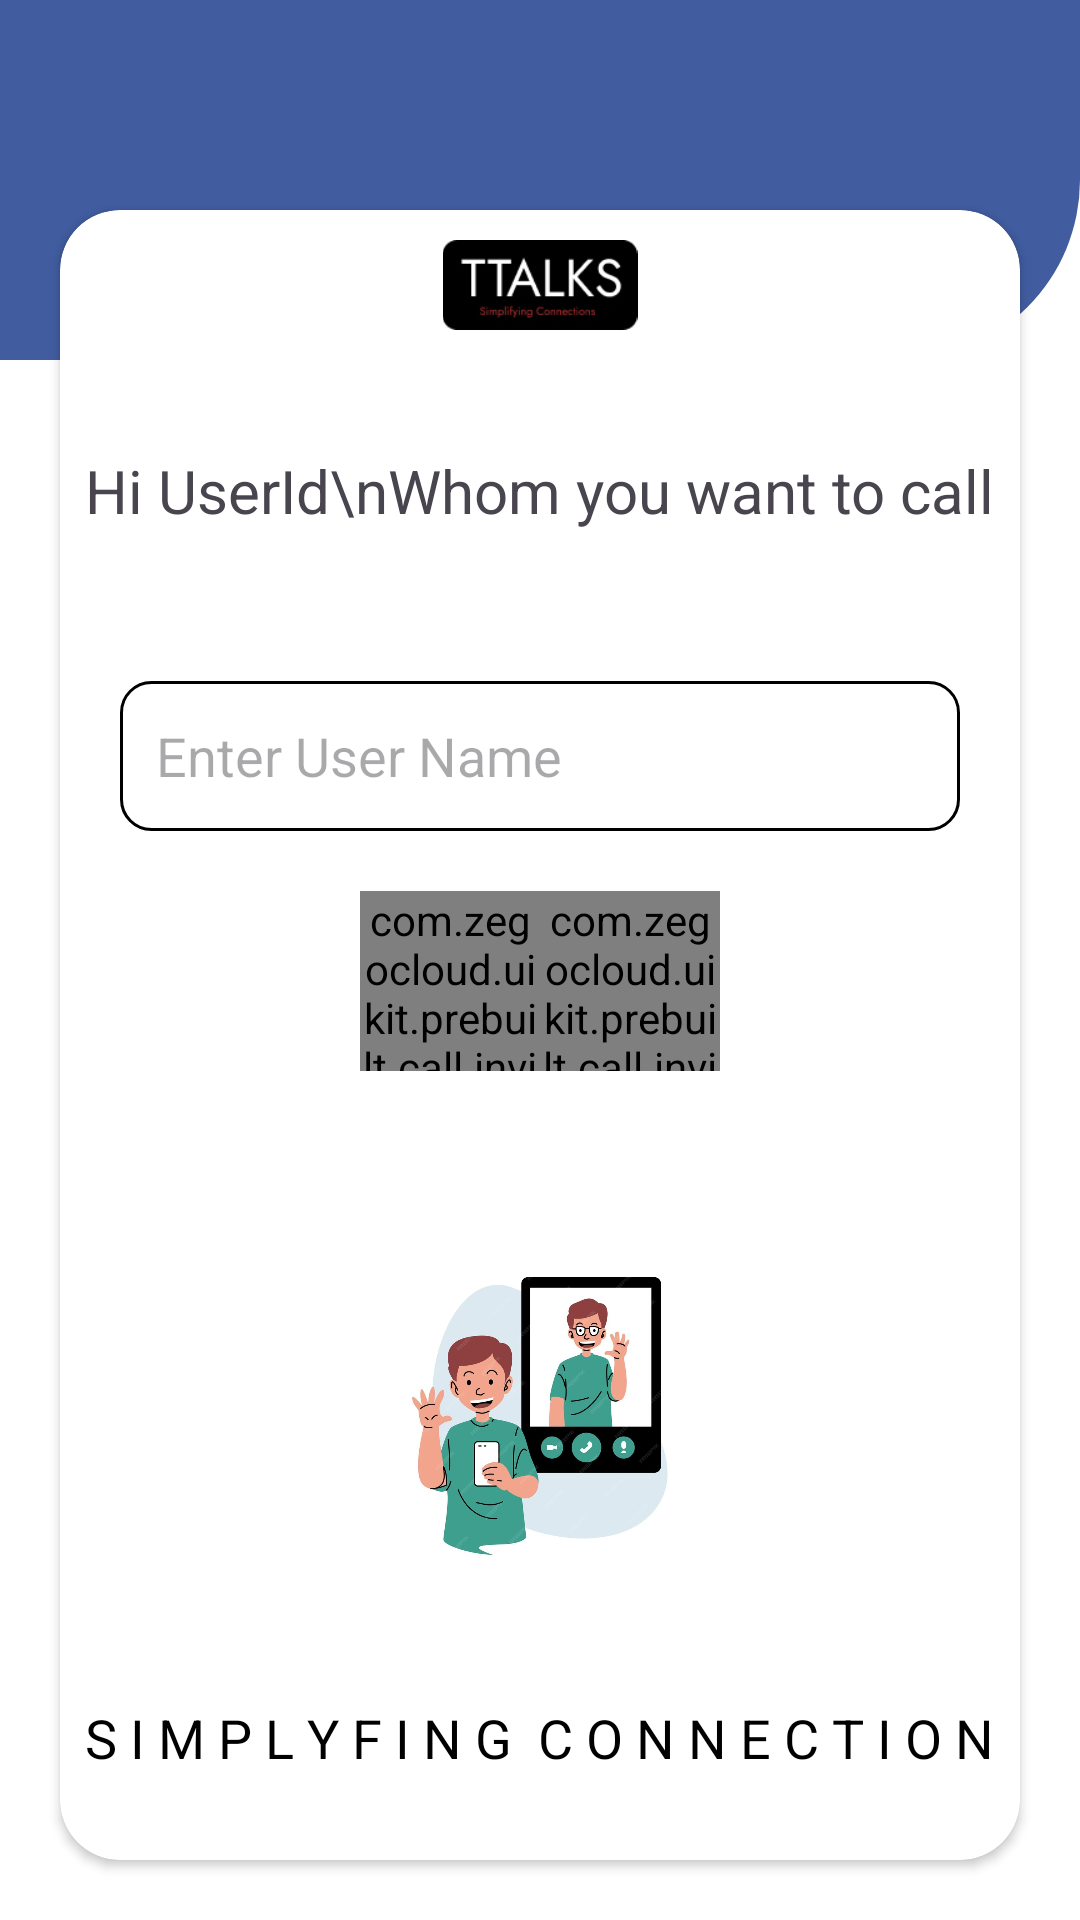

Screen size 1080 x 1920. Icon name, then its box in pixels as {"left": x1, "top": y1, "right": x2, "bottom": y2}:
calling screen: {"left": 412, "top": 1277, "right": 667, "bottom": 1555}
